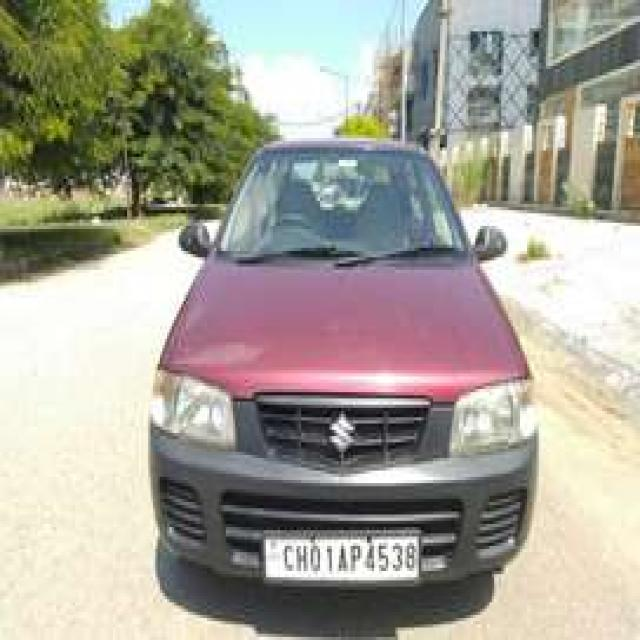license-plate: (261, 534, 417, 578)
